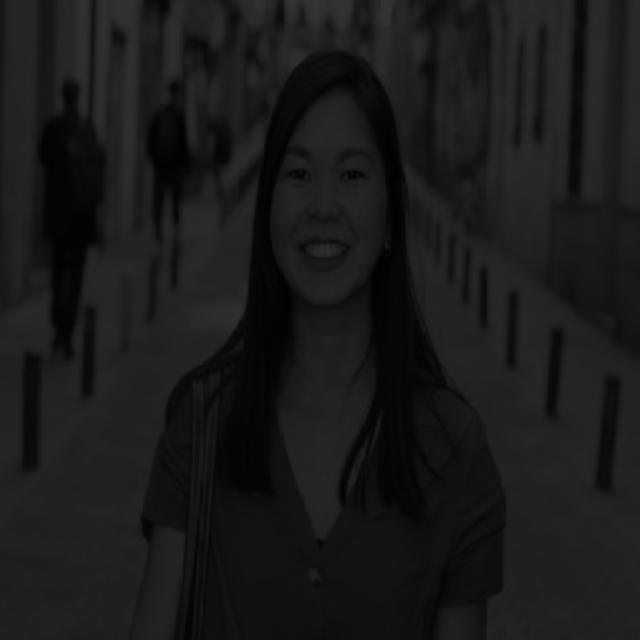Happy: (222, 90, 412, 329)
